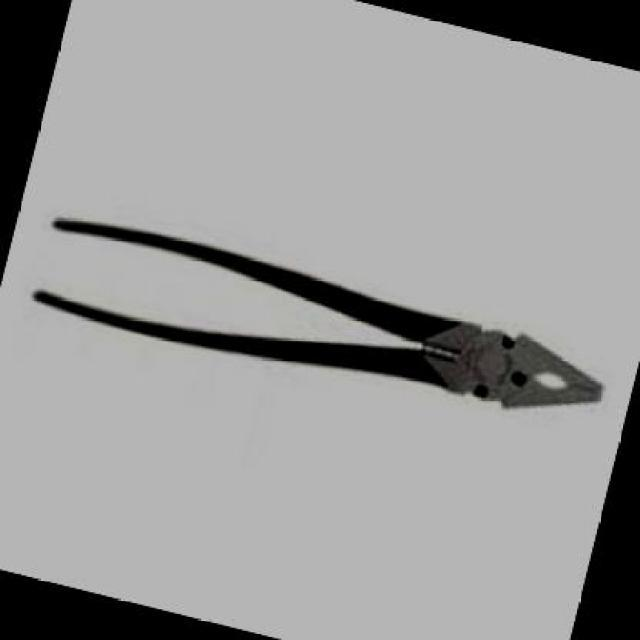pliers: (4, 142, 628, 488)
